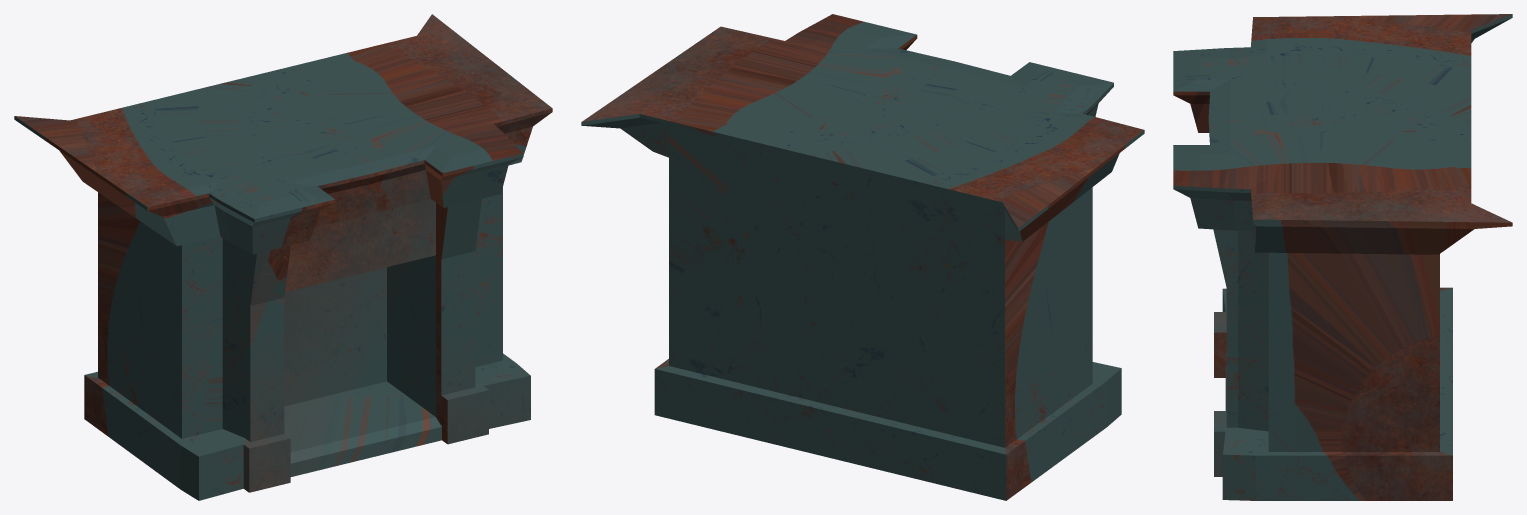
File: Chemine.fbx
The picture shows the model from 3 angles, left to right: view 1: azimuth 30°, elevation 25°; view 2: azimuth 150°, elevation 25°; view 3: azimuth 270°, elevation 25°; orthographic projection. The views are drawn at different scales.
Visible parts, largest first — view 1: cheminé; view 2: cheminé; view 3: cheminé.
Boxes of the visible parts, x1=… form: cheminé: x1=14, y1=14, x2=552, y2=500; cheminé: x1=581, y1=14, x2=1144, y2=500; cheminé: x1=1173, y1=14, x2=1512, y2=500.
Size of the model in its own units: 289 by 194 by 199.
